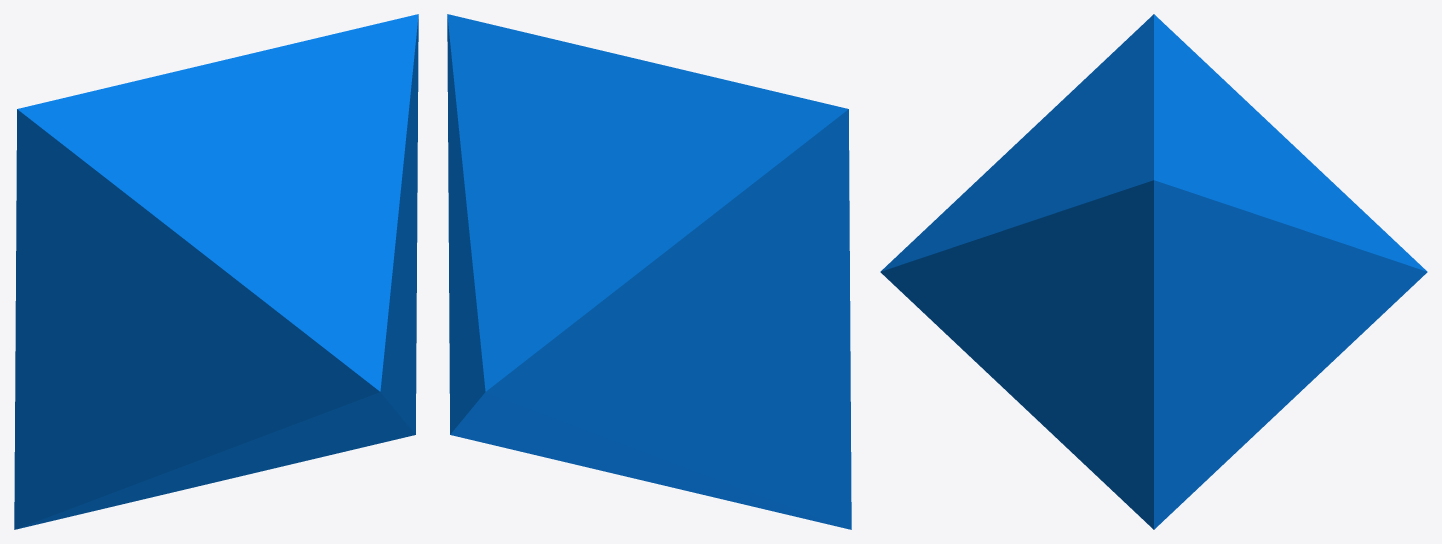
The model's file is 3.SP-Octaedro.gltf.
The picture shows the model from 3 angles, left to right: view 1: azimuth 30°, elevation 25°; view 2: azimuth 150°, elevation 25°; view 3: azimuth 270°, elevation 25°; orthographic projection. The views are drawn at different scales.
Parts seen in each view (by area): view 1: 3.SP Octaedro; view 2: 3.SP Octaedro; view 3: 3.SP Octaedro.
Boxes of the visible parts, <box> form: 3.SP Octaedro: <box>14,14,418,529</box>; 3.SP Octaedro: <box>447,14,851,529</box>; 3.SP Octaedro: <box>880,14,1427,529</box>.
Bounding box in the file's own units: 3.56 × 3.56 × 5.
